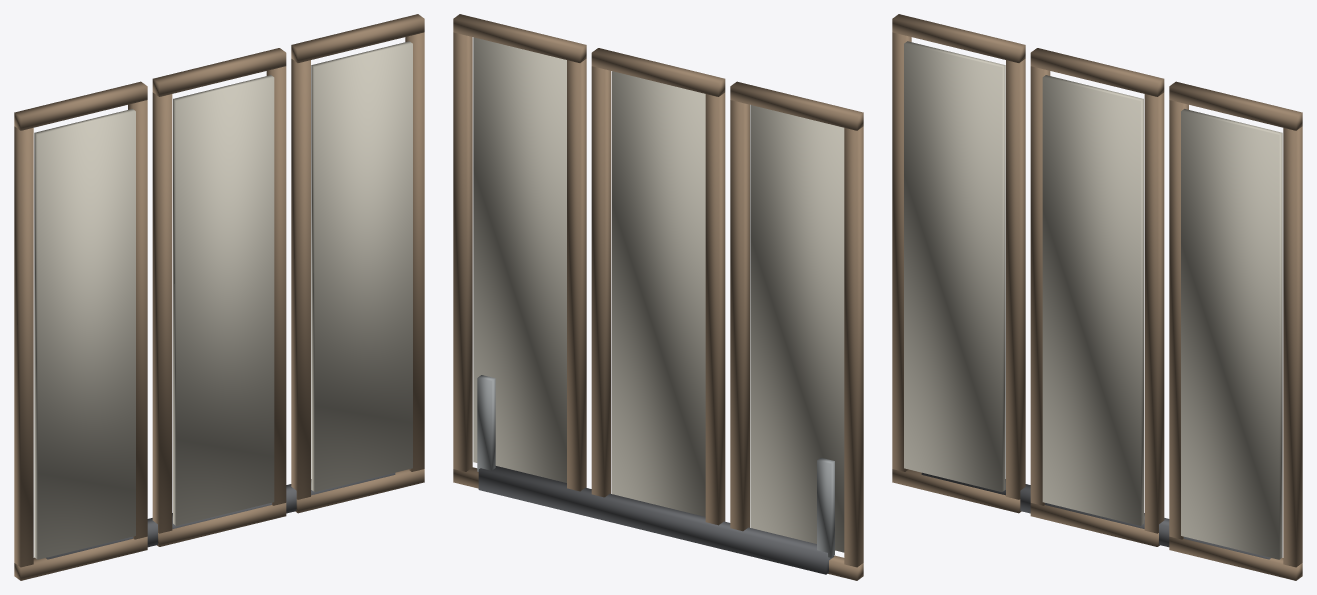
The model's file is funeral_folding_screen__reinforced.glb.
The picture shows the model from 3 angles, left to right: view 1: azimuth 30°, elevation 25°; view 2: azimuth 150°, elevation 25°; view 3: azimuth 330°, elevation 25°; orthographic projection.
Parts seen in each view (by area): view 1: world; view 2: world; view 3: world.
Part boxes in pixels (x1,y1,x2,y2): world: (14, 14, 424, 580); world: (453, 14, 863, 580); world: (892, 14, 1302, 580).
Bounding box in the file's own units: 1.44 × 1.58 × 0.0737.
